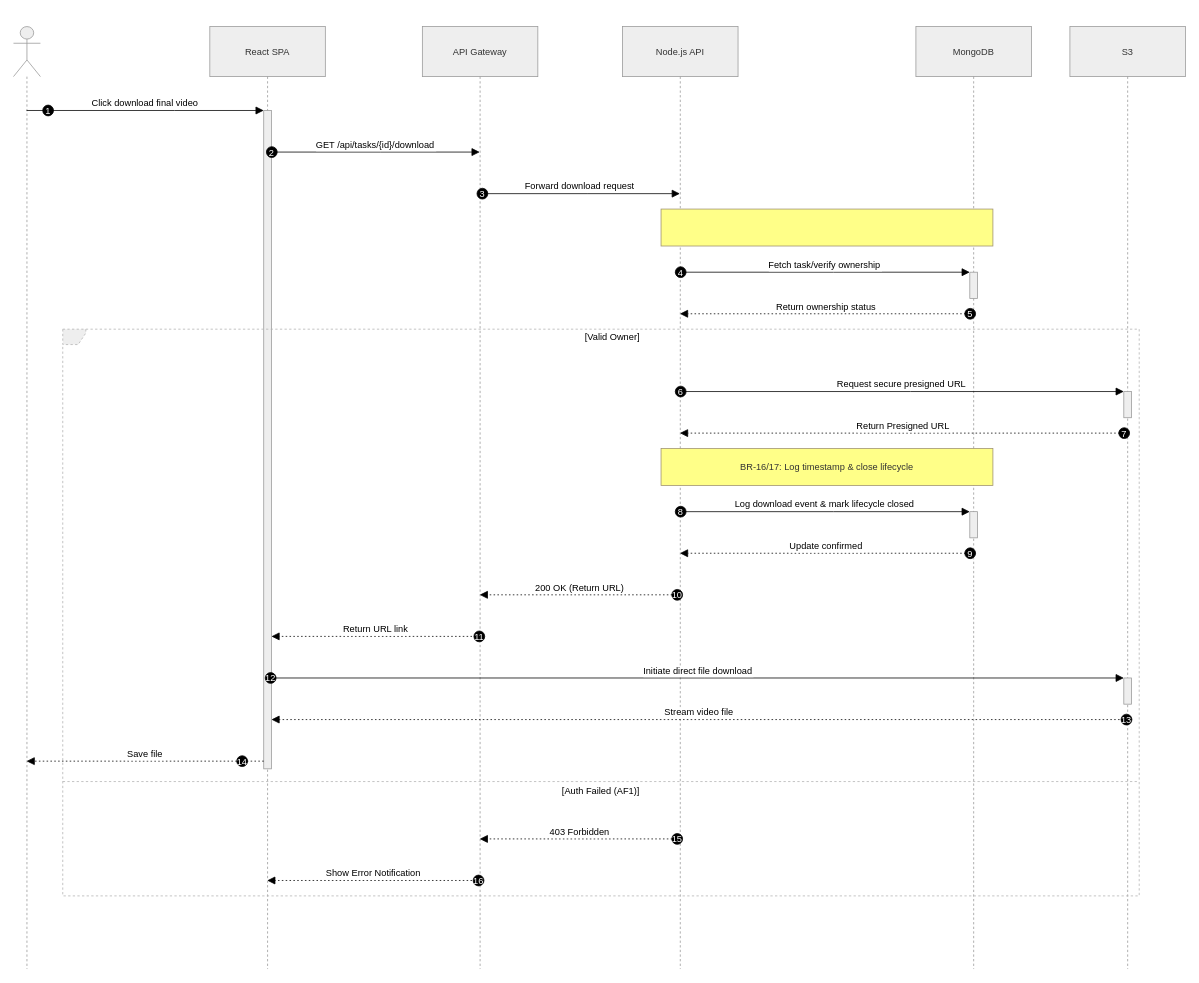
Some shapes in this 1199 by 983 pixel diagram are drawn without their labels. The box of each missing label's shape, as (x1, y1, x2, y2) in pixels:
alt: (62, 328, 1139, 896)
BR-15: Authenticate ownership: (660, 208, 993, 246)
Client: (13, 26, 40, 969)
